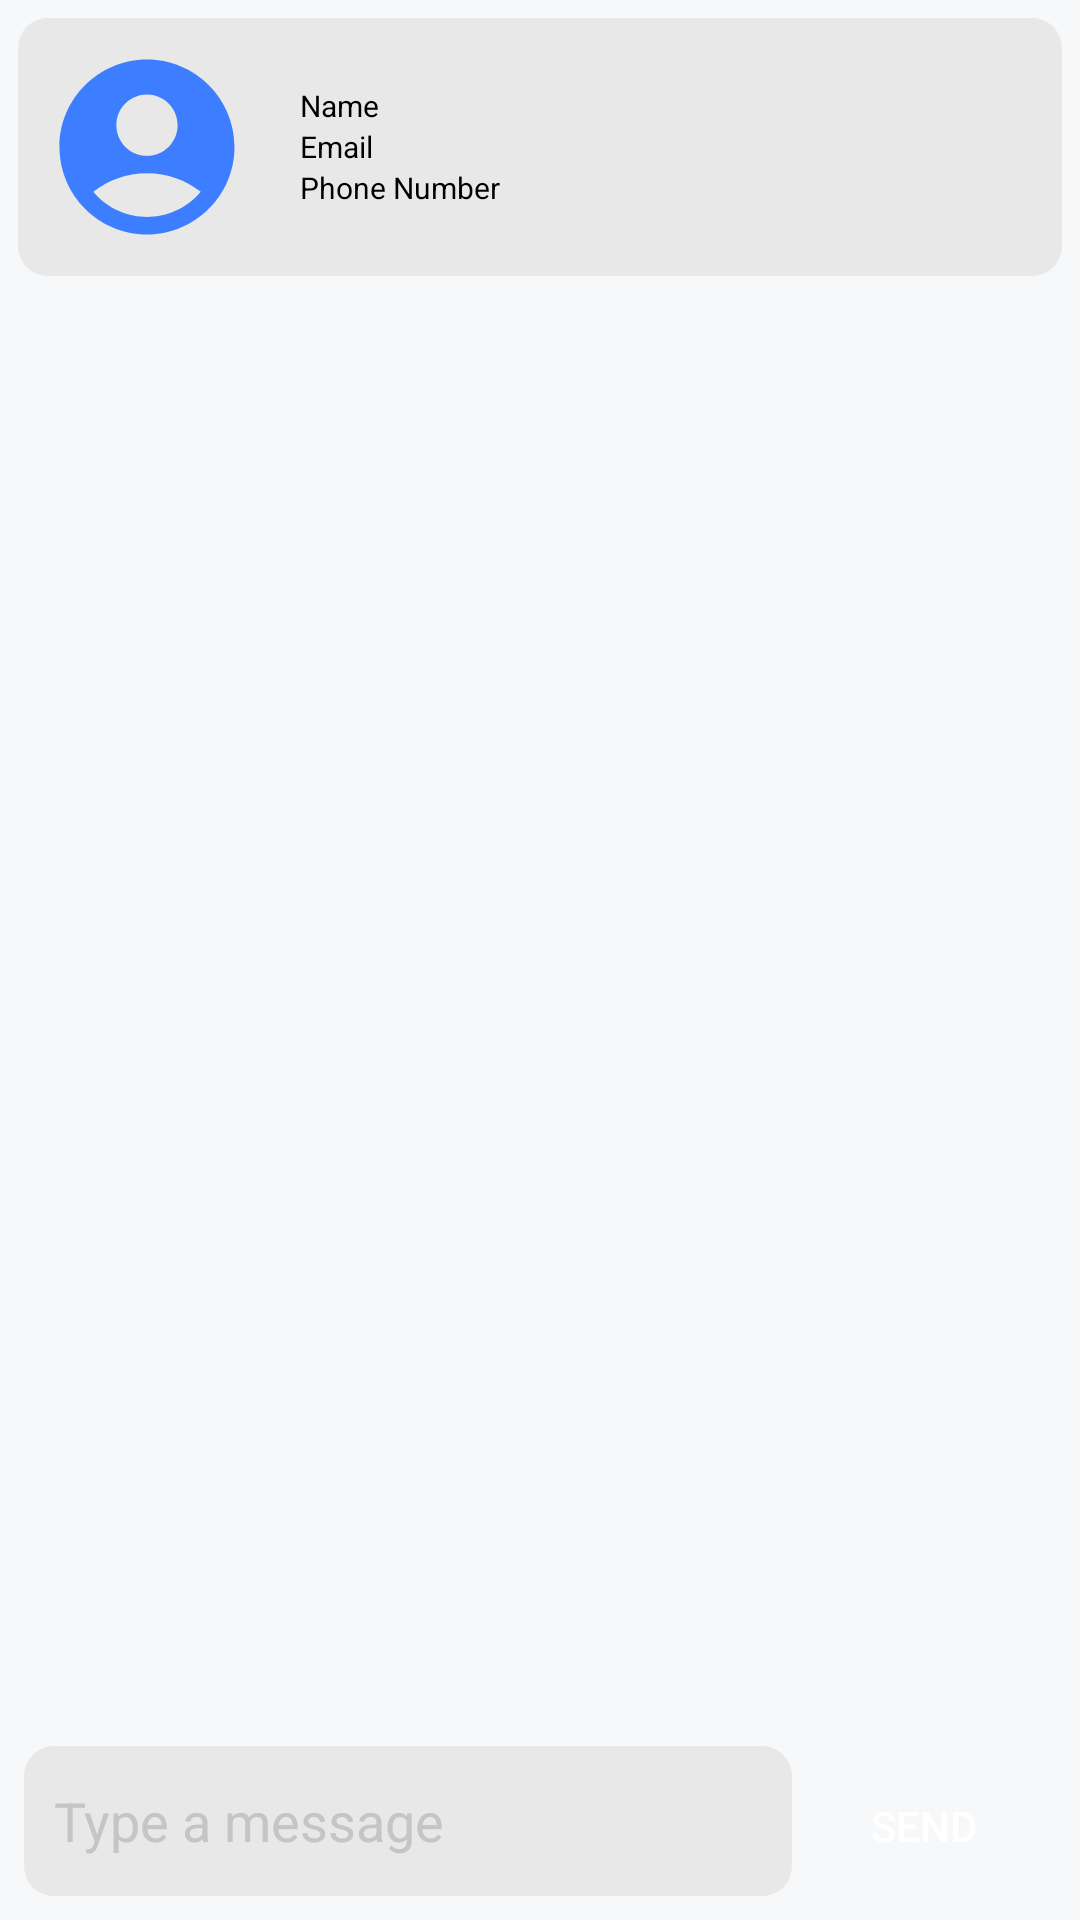

Where icons sit on this 1080×1920 app screen, as (x1, y1, x2, y2):
account circle: (59, 59, 235, 235)
